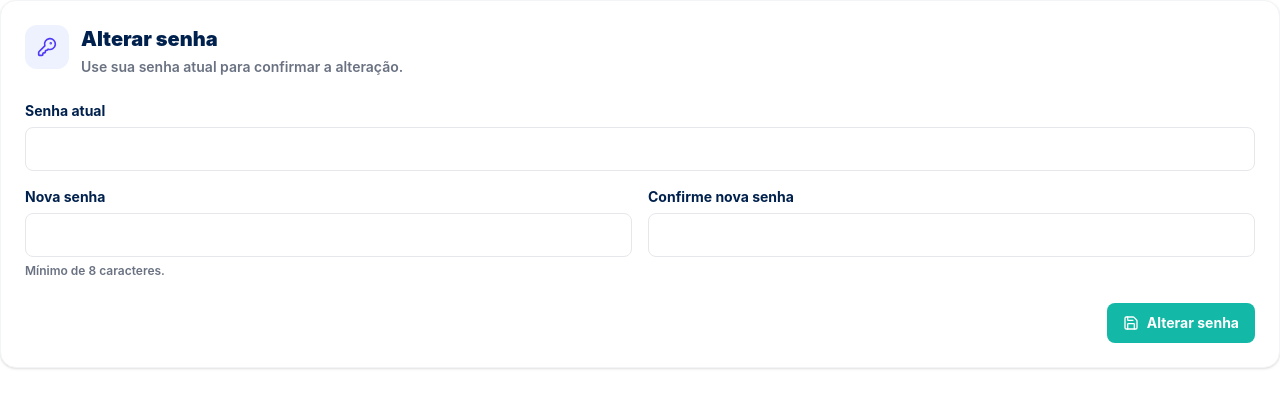
AlterarSenhaForm › mostra senha atual incorreta como erro de campo
The image size is (1280, 408).
Step 1. Type "errada123" into the password field labelled "Senha atual" → (640,149), box 25,127 -> 1255,171
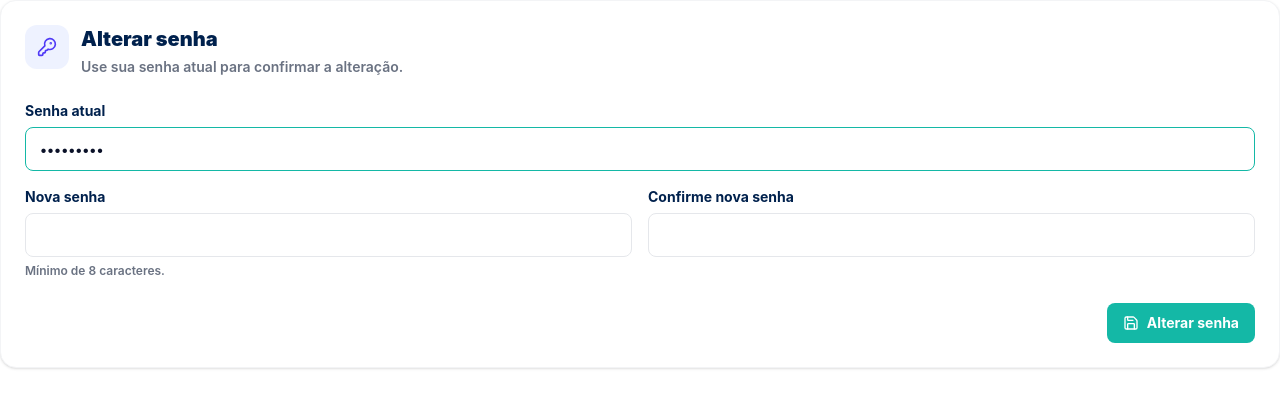
Step 2. Type "nova1234" into the password field labelled "Nova senha" → (328,235), box 25,213 -> 632,257
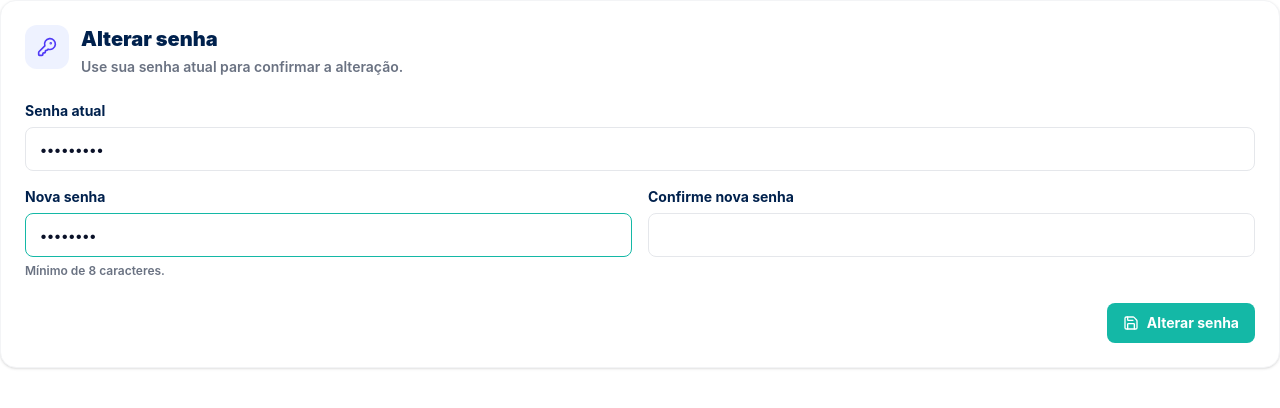
Step 3. Type "nova1234" into the password field labelled "Confirme nova senha" → (952,235), box 648,213 -> 1255,257
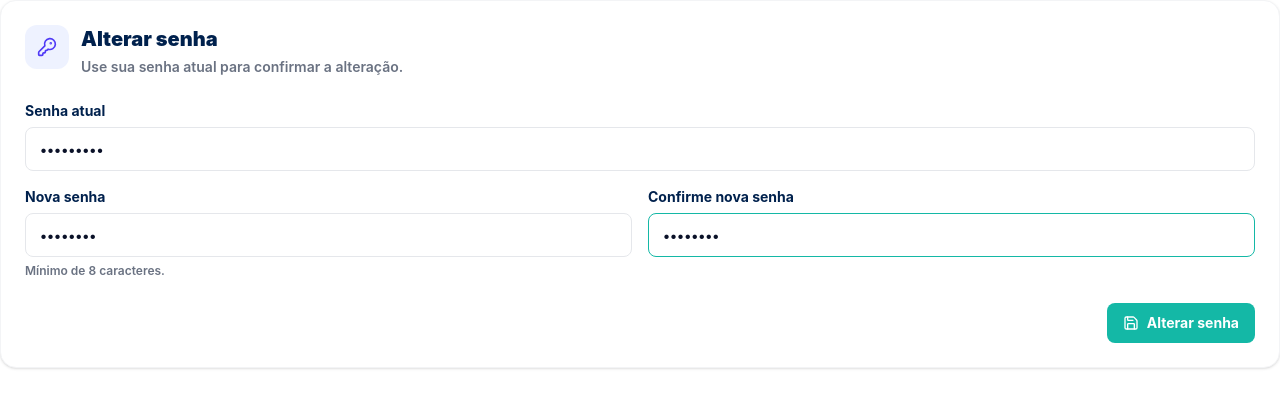
Step 4. Click the button "Alterar senha" → (1181,323), box 1107,303 -> 1255,343
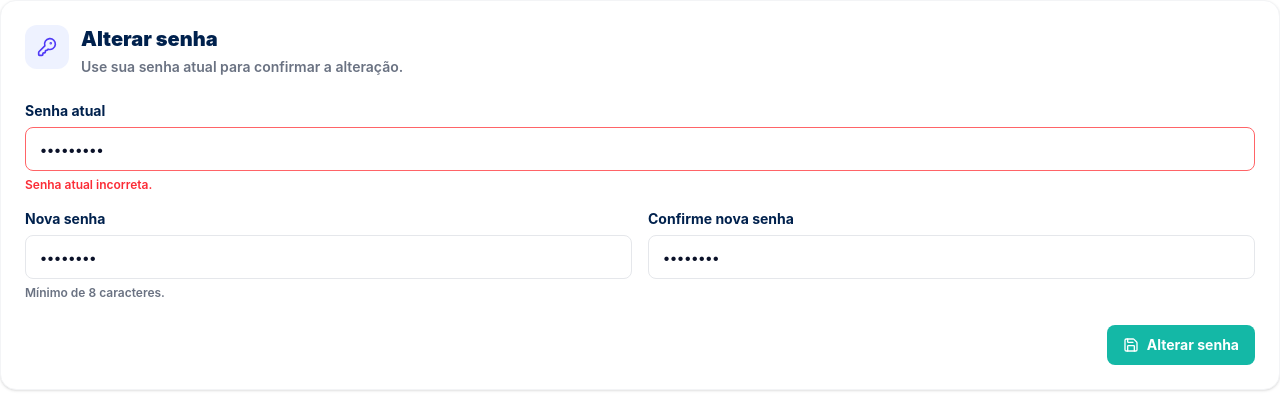
Now the text "Senha atual incorreta." is shown, box 25,177 -> 152,192
